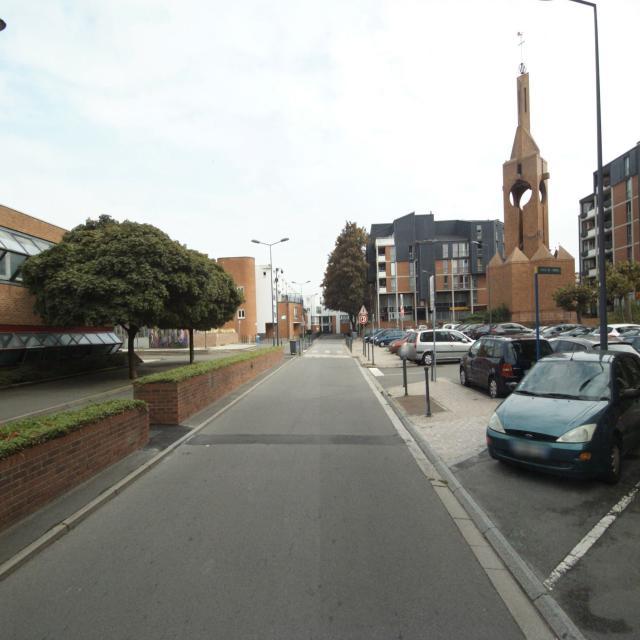car: (486, 349, 640, 485), (459, 334, 553, 398), (400, 328, 475, 365), (466, 322, 537, 337), (373, 328, 406, 346), (386, 331, 413, 353), (364, 328, 384, 343), (442, 322, 462, 330)
